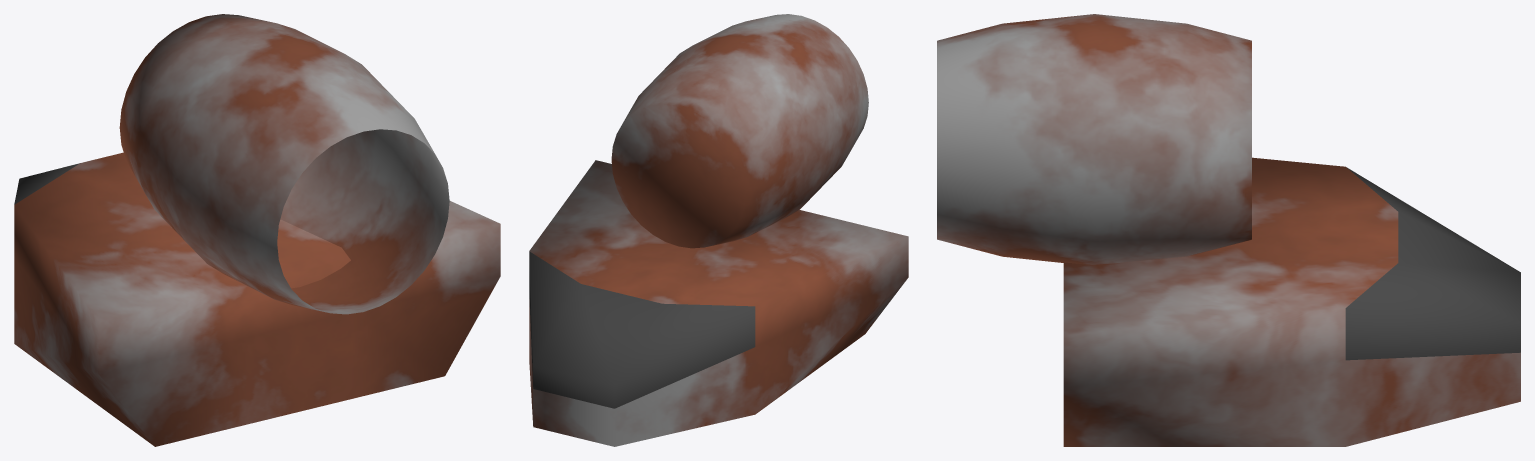
The model's file is PirateSeven.fbx.
3 views of the same model, side by side, from view 1: azimuth 30°, elevation 25°; view 2: azimuth 150°, elevation 25°; view 3: azimuth 270°, elevation 25° (orthographic). The views are drawn at different scales.
Visible parts, largest first — view 1: pirate_7, pirate_7_turbine; view 2: pirate_7, pirate_7_turbine; view 3: pirate_7, pirate_7_turbine.
Part boxes in pixels (x1=…): pirate_7: x1=14, y1=152, x2=500, y2=446; pirate_7_turbine: x1=119, y1=14, x2=449, y2=314; pirate_7: x1=529, y1=160, x2=908, y2=446; pirate_7_turbine: x1=611, y1=14, x2=868, y2=248; pirate_7: x1=1063, y1=157, x2=1520, y2=446; pirate_7_turbine: x1=937, y1=14, x2=1251, y2=265.
Size of the model in its own units: 2028 by 2554 by 1692.
